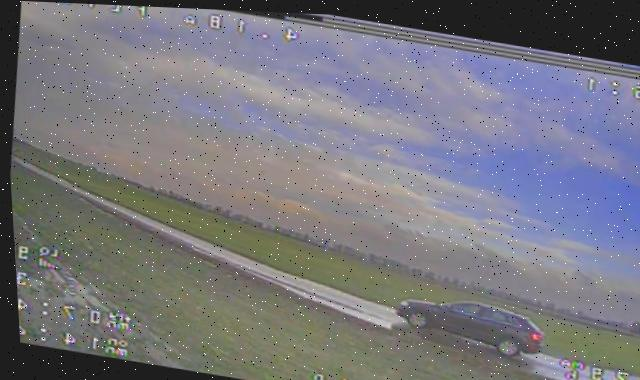car: (390, 285, 548, 356)
